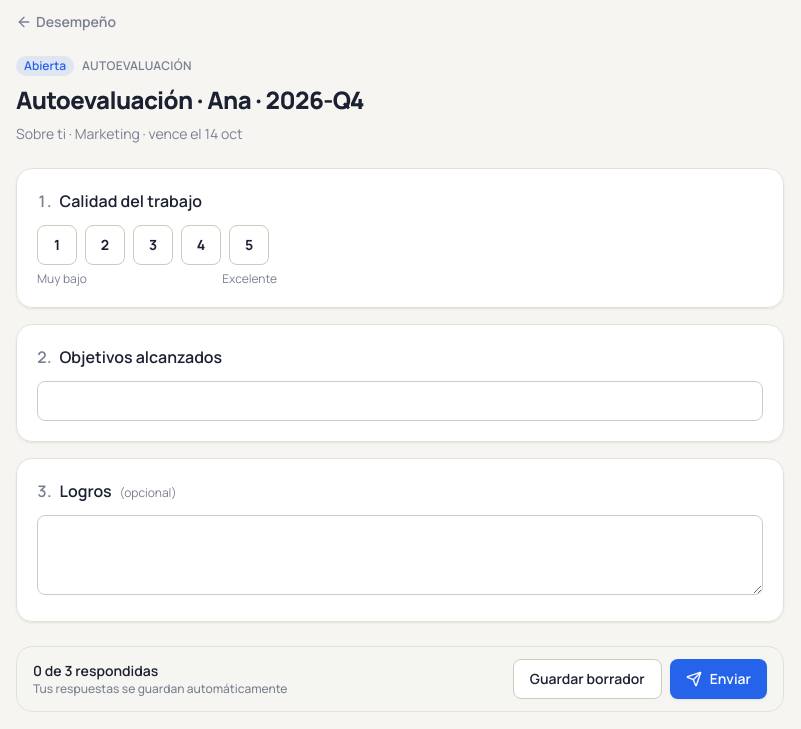
Test: SurveyResponsePage › auto-saves answers as a draft and shows it
Expected: the text "Tus respuestas se guardan automáticamente" is shown, [33,681,287,697]
Step 1. Click the radio button labelled "4" → (201, 245), box [181,225,221,265]
Wait 30000 ms
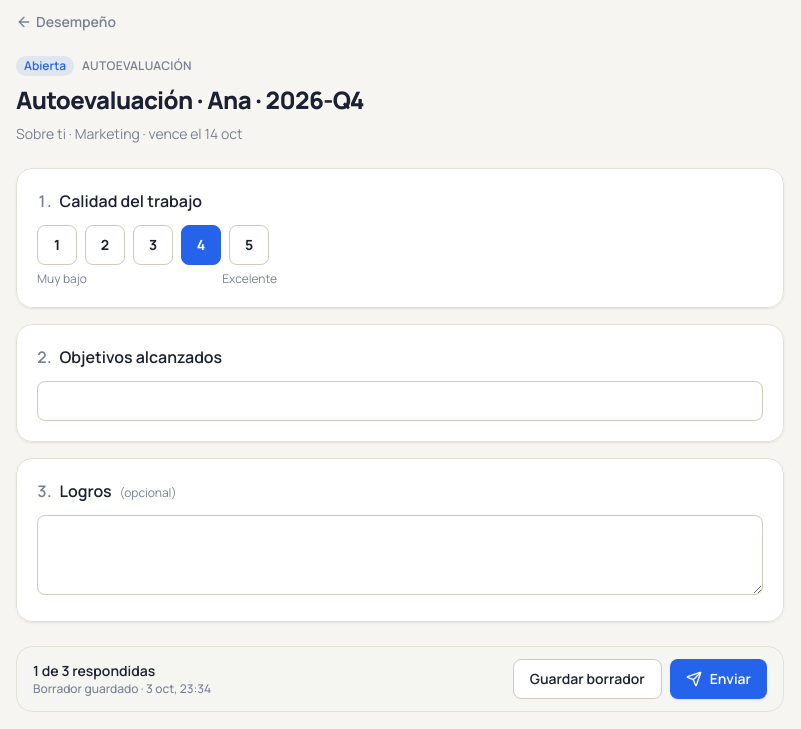
Expected: the text "1 de 3 respondidas" is shown, [33,661,155,680]
Expected: the text "Borrador guardado · 3 oct, 23:34" is shown, [33,681,211,697]
